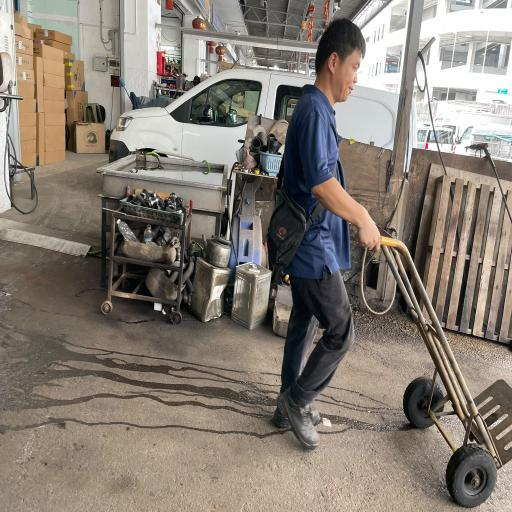person_right: (268, 19, 504, 507)
